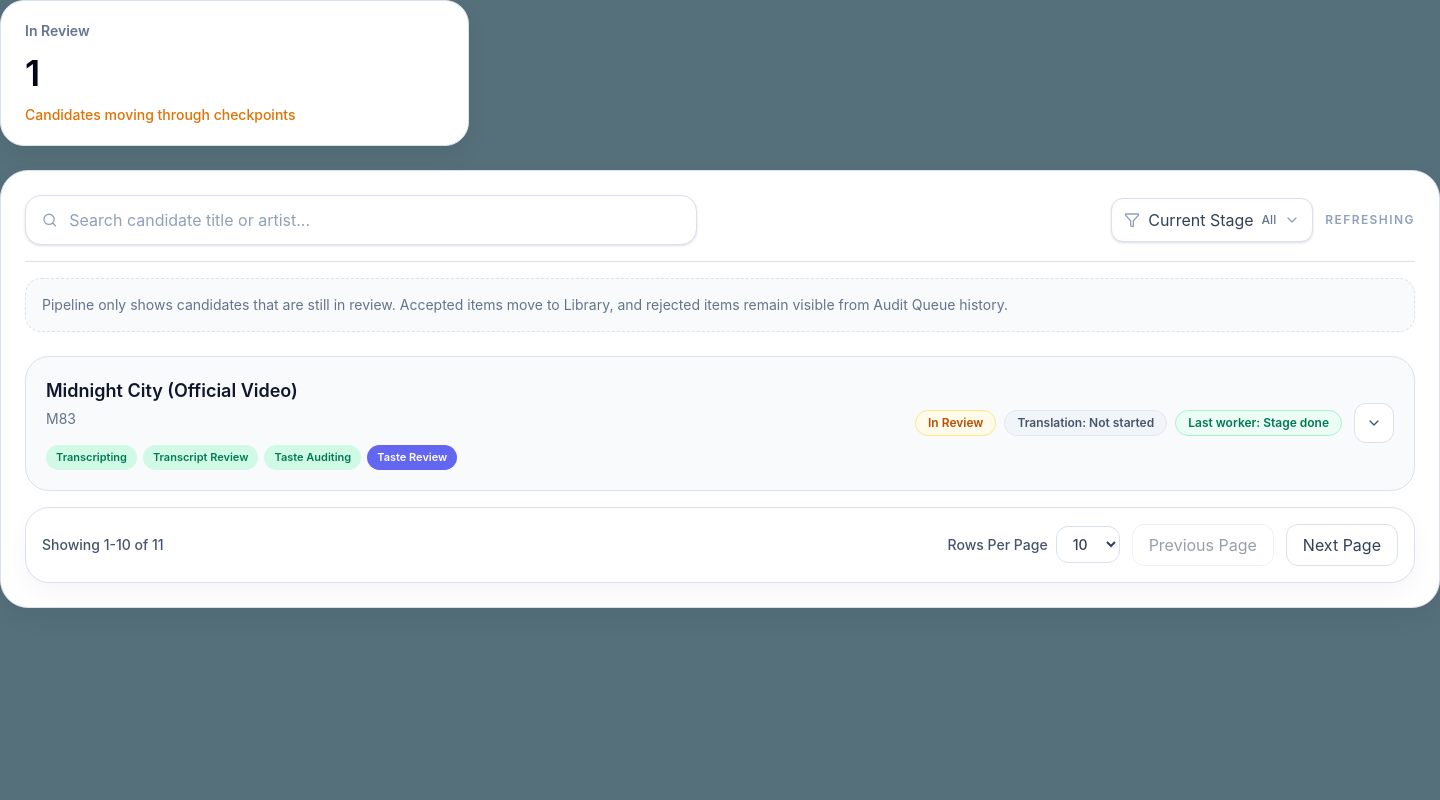
Test: PipelineDashboardClient › reveals workflow detail cards after expanding a row
Click the button named "show details".
click(1374, 423)  # box [1354,403,1394,443]
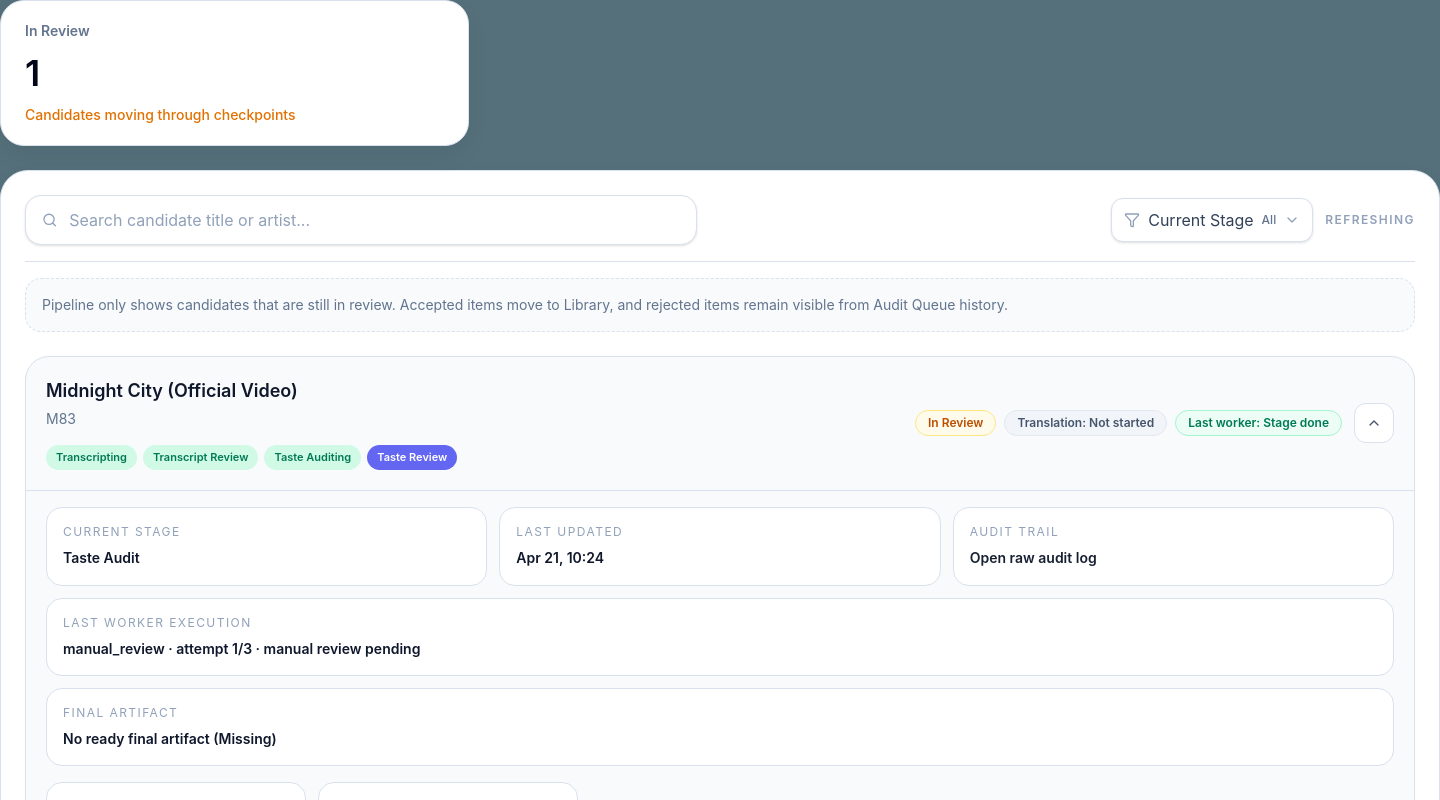
Expected: the text "Last Worker Execution" is shown, [63,614,252,630]
Expected: the text "No ready final artifact (Missing)" is shown, [63,728,277,748]
Expected: the text "manual_review · attempt 1/3 · manual review pending" is shown, [63,640,420,656]
